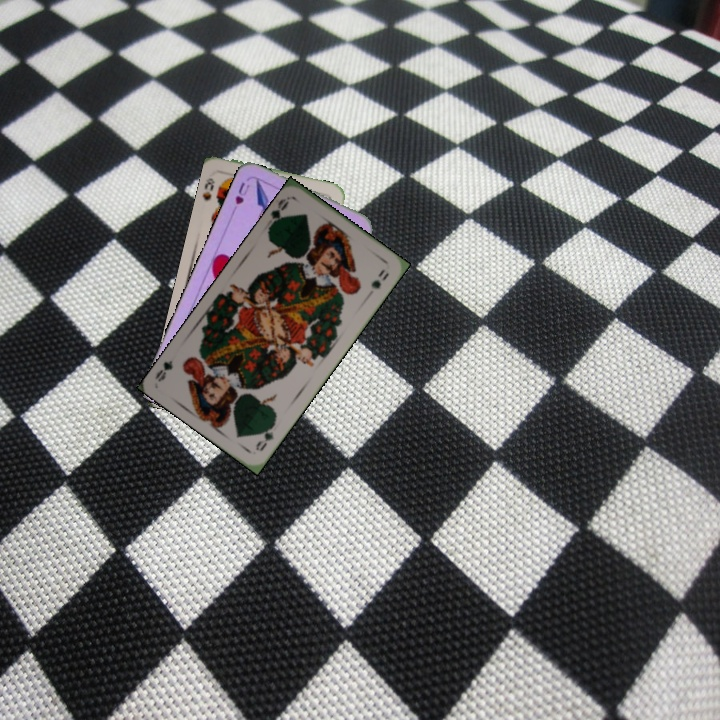GO: (265, 194, 292, 230), (251, 418, 278, 454)
HU: (231, 178, 252, 207)
S8: (198, 174, 217, 203)
